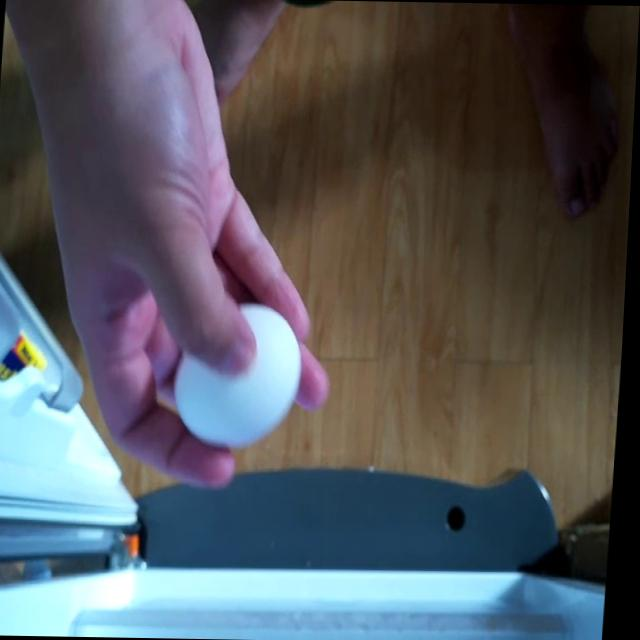egg: (171, 300, 312, 454)
